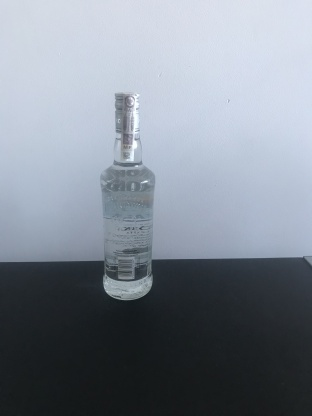nakretka: (112, 88, 143, 136)
